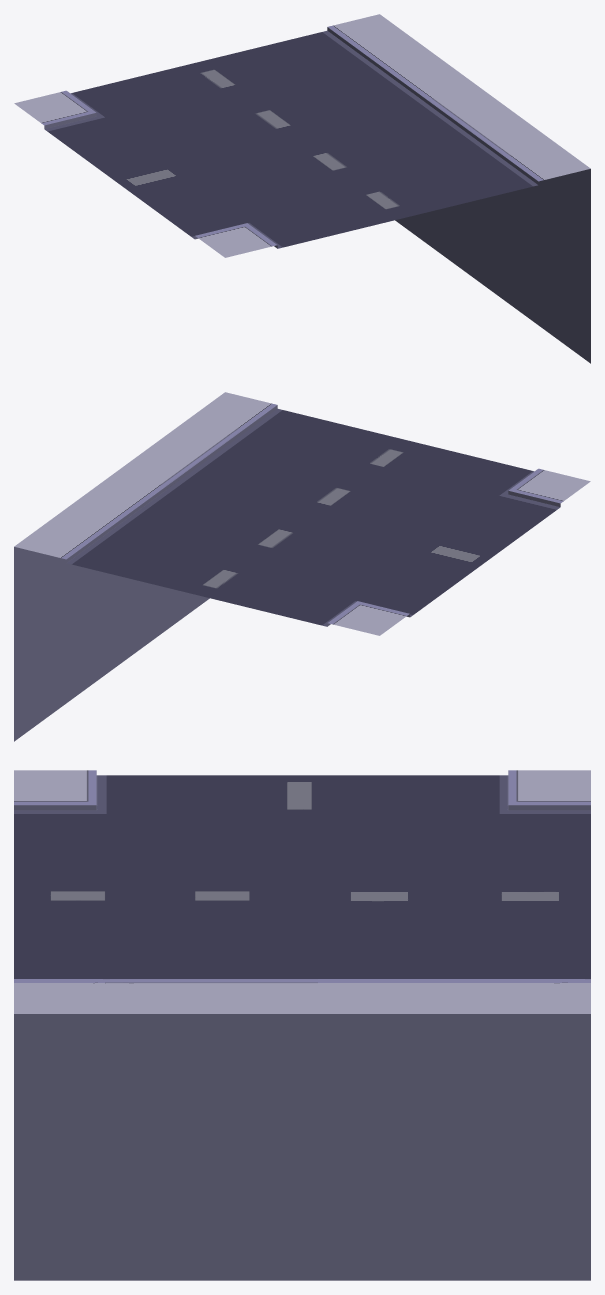
File: T_road.fbx
3 renders of one model, top to bottom at view 1: azimuth 30°, elevation 25°; view 2: azimuth 150°, elevation 25°; view 3: azimuth 270°, elevation 25°, orthographic. The views are drawn at different scales.
Parts seen in each view (by area): view 1: Block_3; view 2: Block_3; view 3: Block_3.
Boxes of the visible parts, x1,y1,x2,y2 form: Block_3: (14,14,590,363); Block_3: (14,392,590,741); Block_3: (14,770,590,1280).
Size of the model in its own units: 13.15 by 6.7 by 13.15.
1 material, 1 textured.
